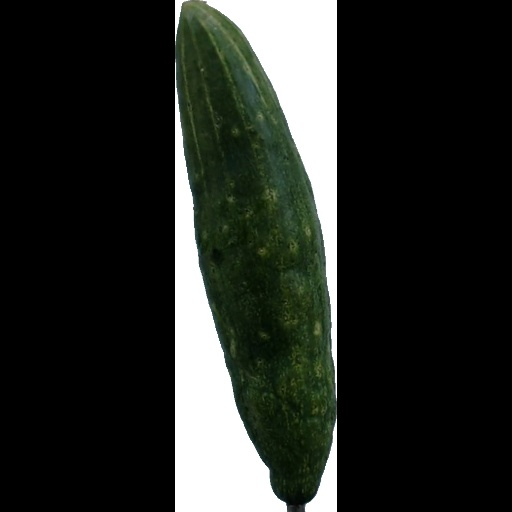concombre: (176, 1, 336, 512)
